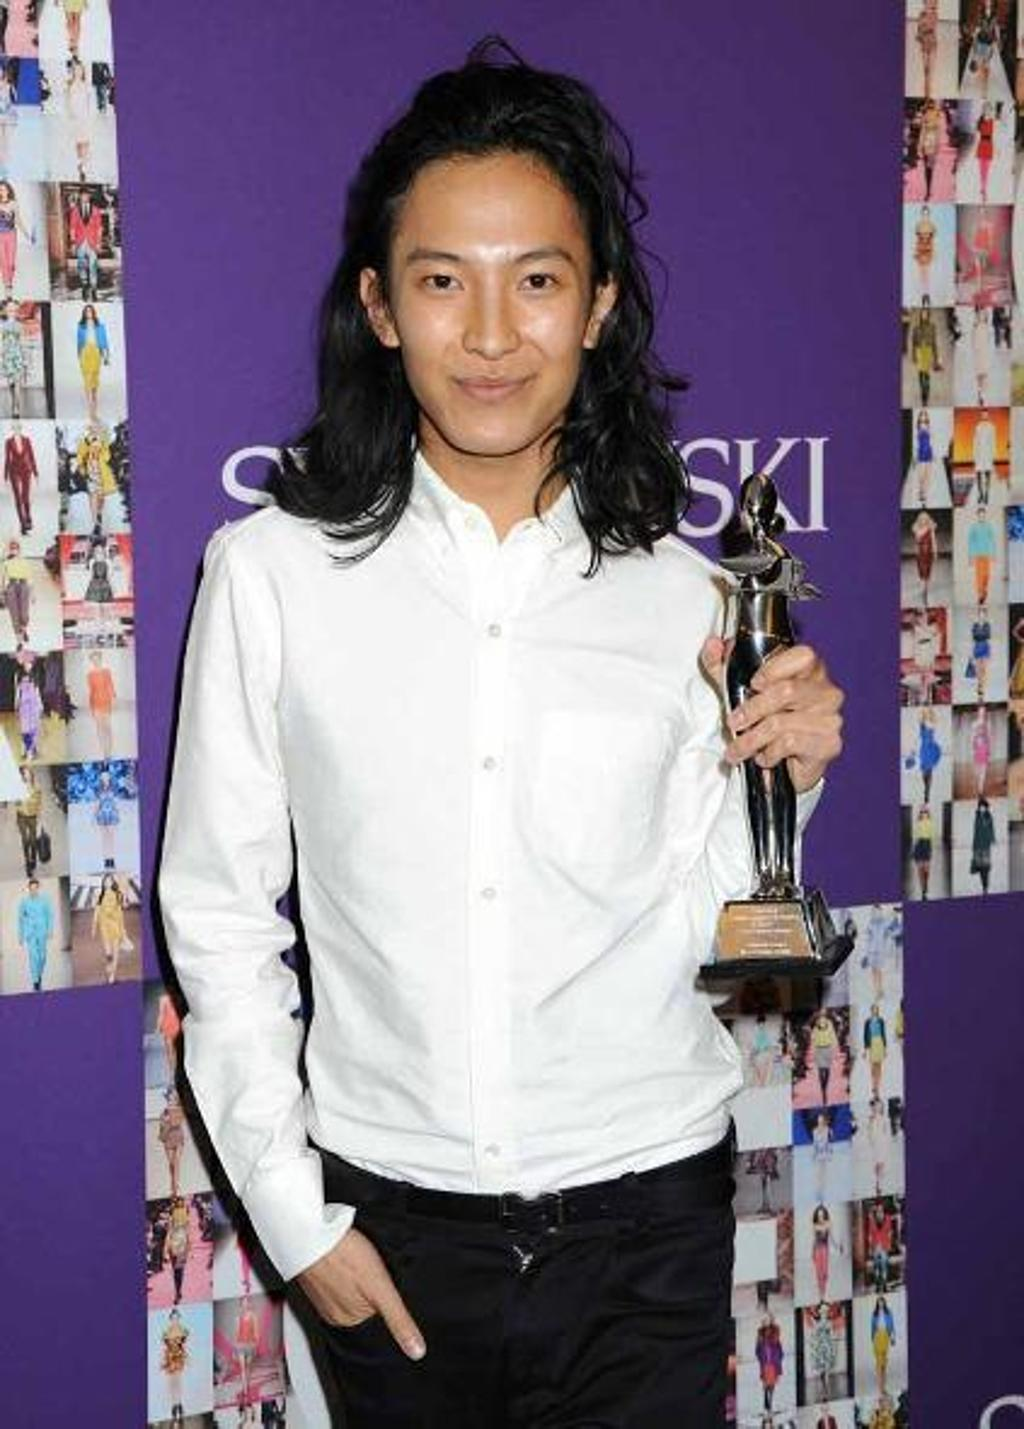face: (385, 151, 594, 450)
